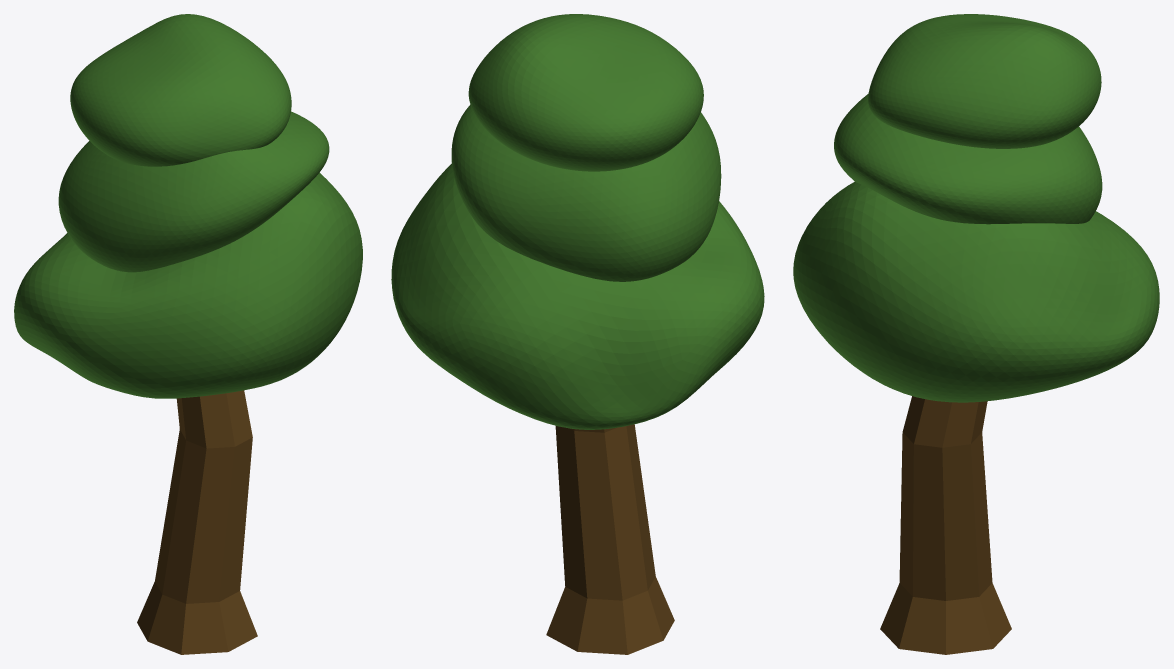
File: tree2.glb
3 views of the same model, side by side, from view 1: azimuth 30°, elevation 25°; view 2: azimuth 150°, elevation 25°; view 3: azimuth 270°, elevation 25° (orthographic). The views are drawn at different scales.
Parts seen in each view (by area): view 1: Icosphere.003; view 2: Icosphere.003; view 3: Icosphere.003.
Part boxes in pixels (<box>): Icosphere.003: <box>14,14,362,654</box>; Icosphere.003: <box>391,14,764,654</box>; Icosphere.003: <box>793,14,1159,654</box>.
Size of the model in its own units: 7.97 by 13.99 by 7.57.
